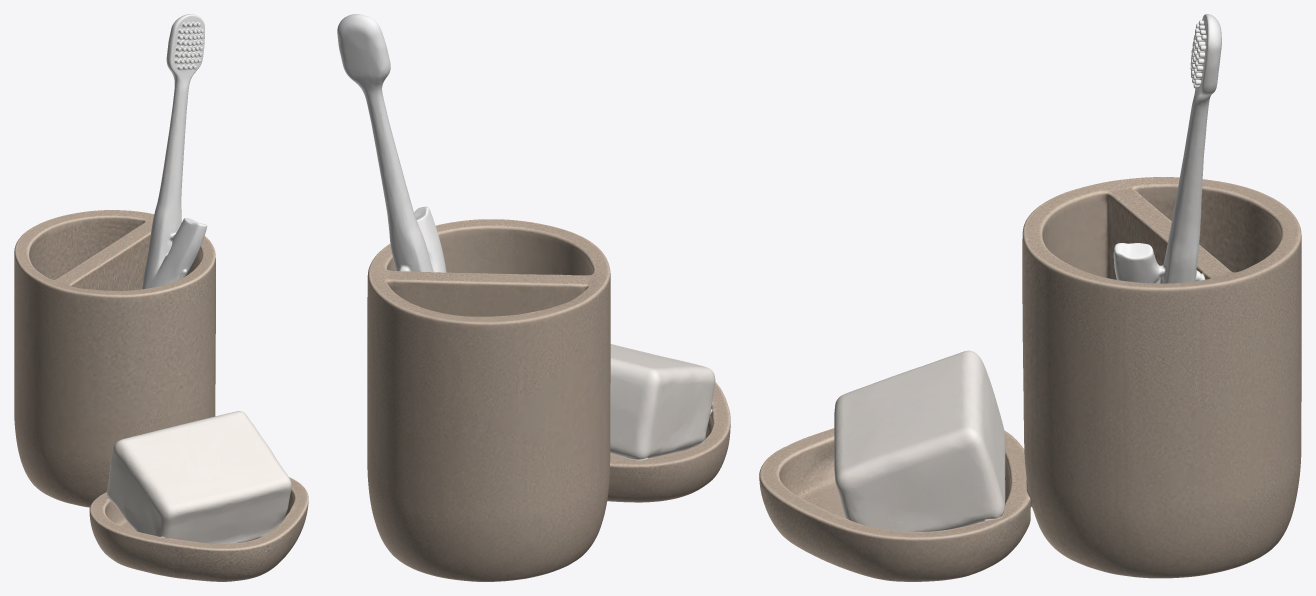
The model's file is pano-polyresin-bathroom-set-of-4-pcs-soap-dispenser-tumbler-.glb.
3 views of the same model, side by side, from view 1: azimuth 30°, elevation 25°; view 2: azimuth 150°, elevation 25°; view 3: azimuth 270°, elevation 25° (orthographic). The views are drawn at different scales.
Size of the model in its own units: 0.9801 by 1.9 by 1.63.
Materials: 1 (1 with a texture image).
